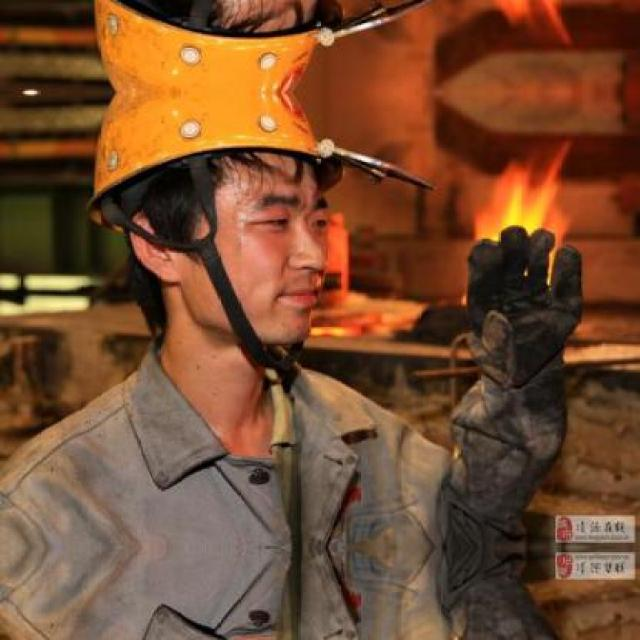helmet: (73, 91, 370, 358), (72, 0, 371, 94)
